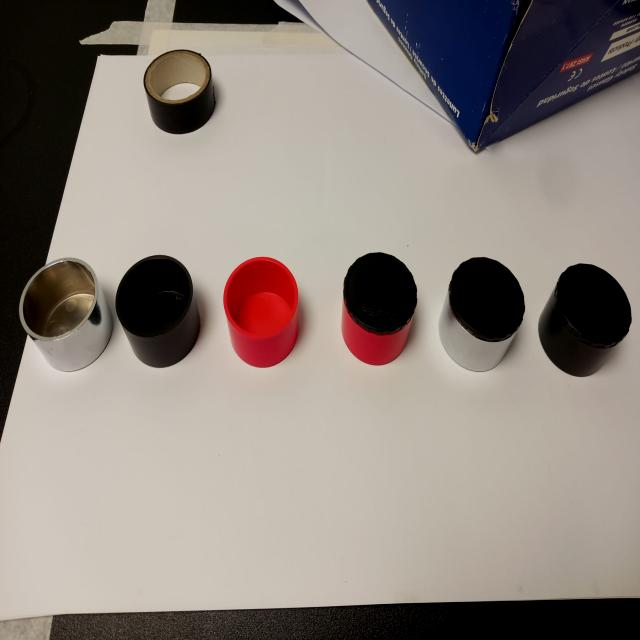NoLid: (219, 251, 317, 381), (8, 257, 114, 375), (112, 250, 208, 376)
Workpiece: (439, 250, 532, 390), (540, 258, 632, 371), (341, 242, 418, 376)
